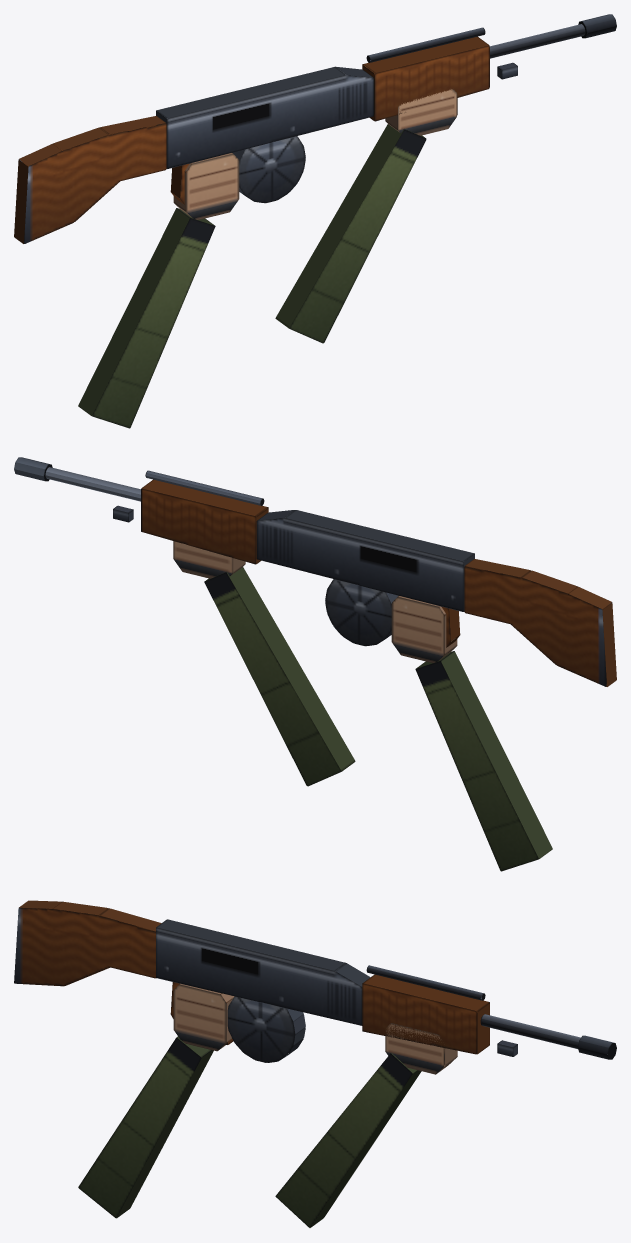
The model's file is lmg_fp_model.obj.
3 renders of one model, top to bottom at view 1: azimuth 30°, elevation 25°; view 2: azimuth 150°, elevation 25°; view 3: azimuth 330°, elevation 25°, orthographic.
Size of the model in its own units: 51.6 by 25.6 by 2.1.
Materials: 1 (1 with a texture image).
